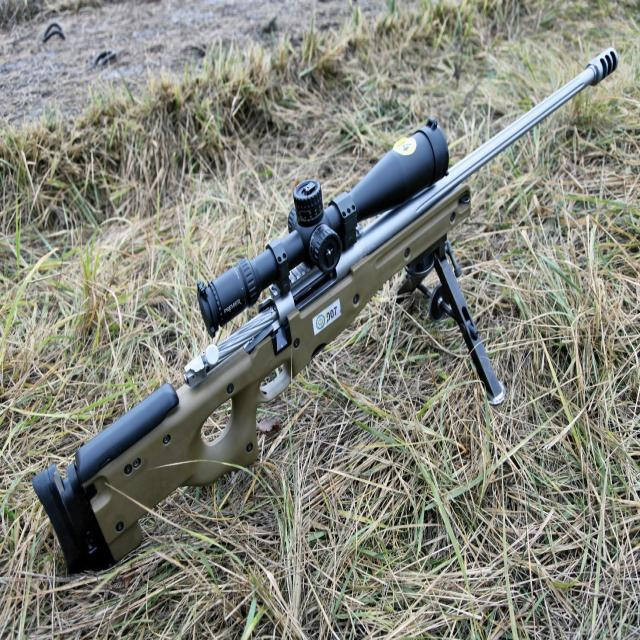firearm: (31, 44, 621, 578)
